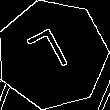L_SE: (27, 25, 78, 84)
